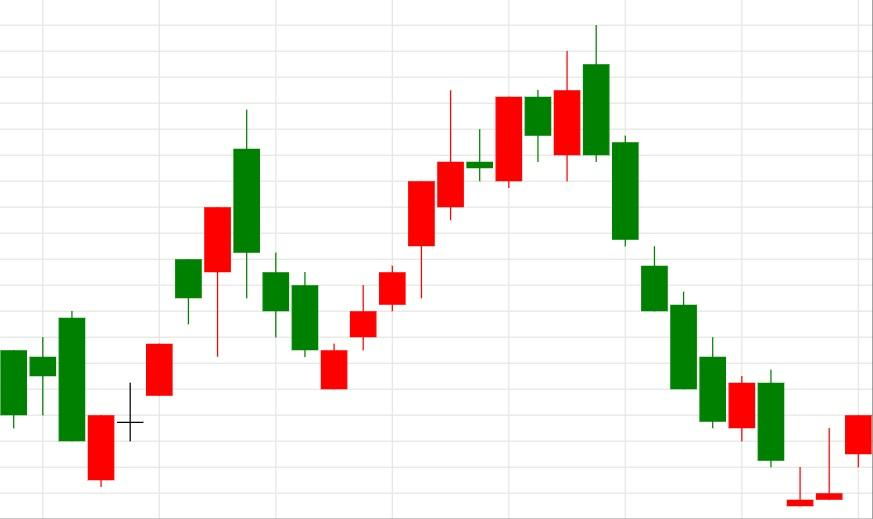three_white_soldiers_rise: (233, 109, 407, 390)
